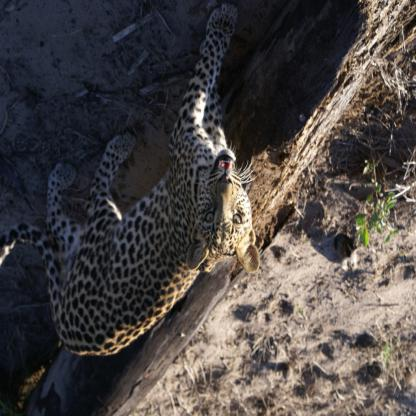leopard: (182, 146, 264, 284)
